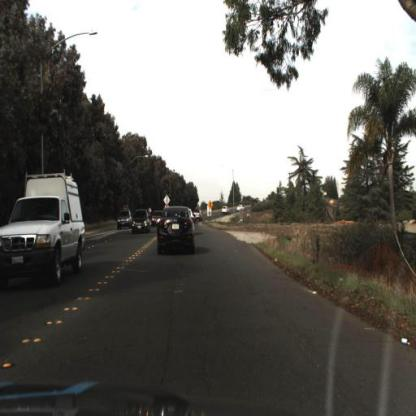car: (1, 173, 88, 287), (156, 205, 198, 258), (130, 209, 152, 236), (117, 206, 134, 233), (151, 207, 165, 235)
